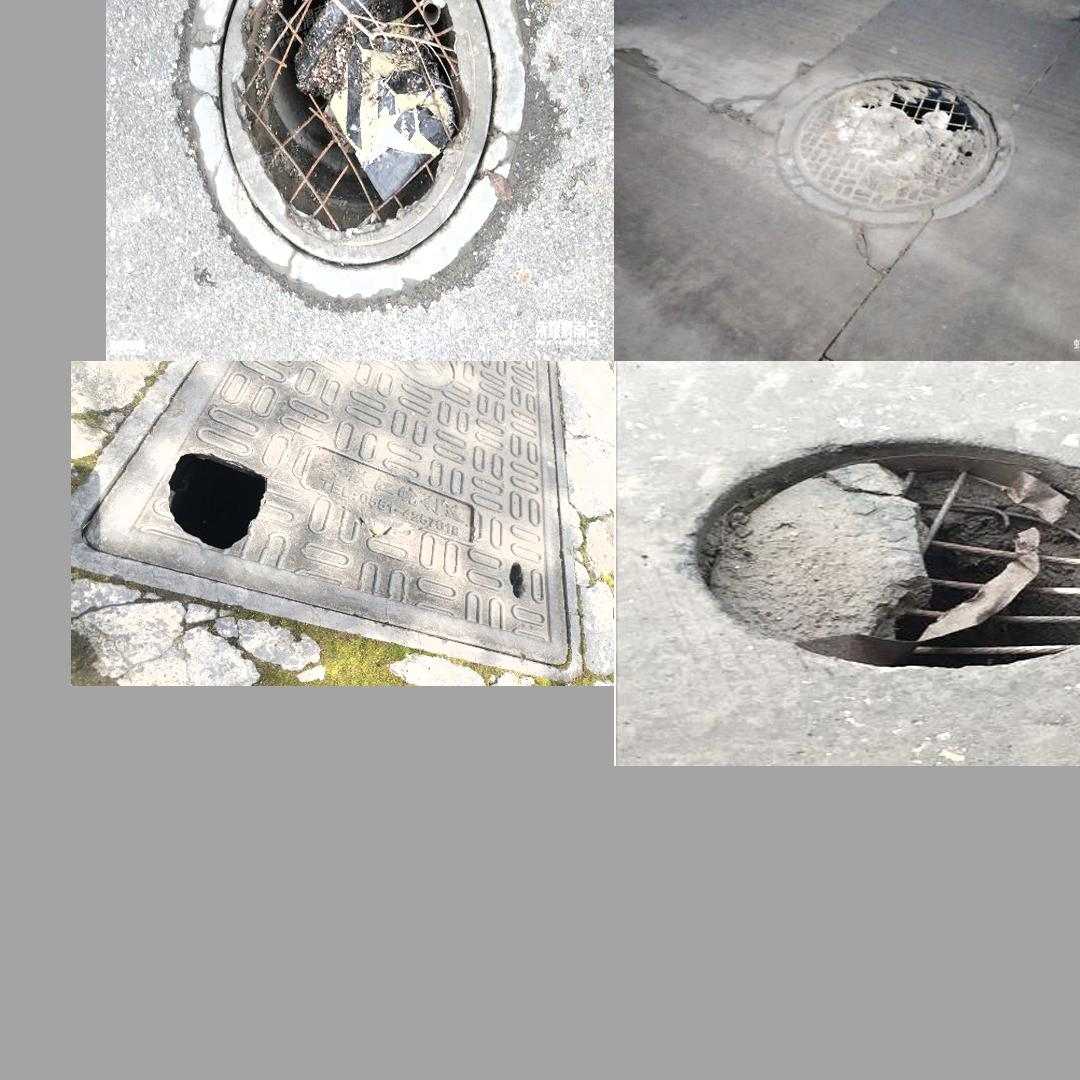broke: (142, 371, 582, 644), (169, 0, 549, 312), (690, 419, 1080, 690), (769, 63, 1018, 221)
